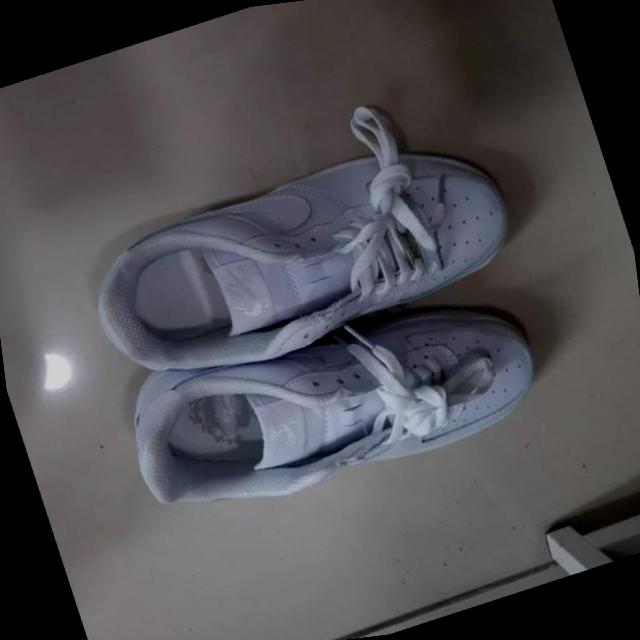nike_fake_airforce: (61, 106, 538, 420), (82, 252, 573, 554)
